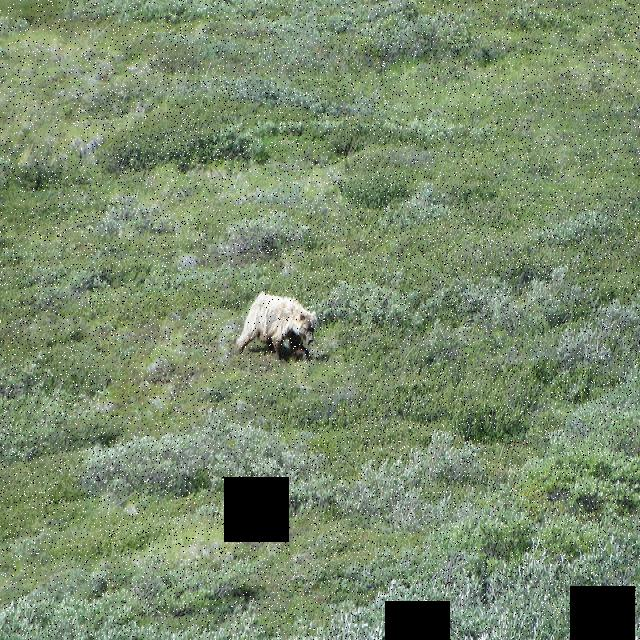Bear: (232, 282, 320, 359)
